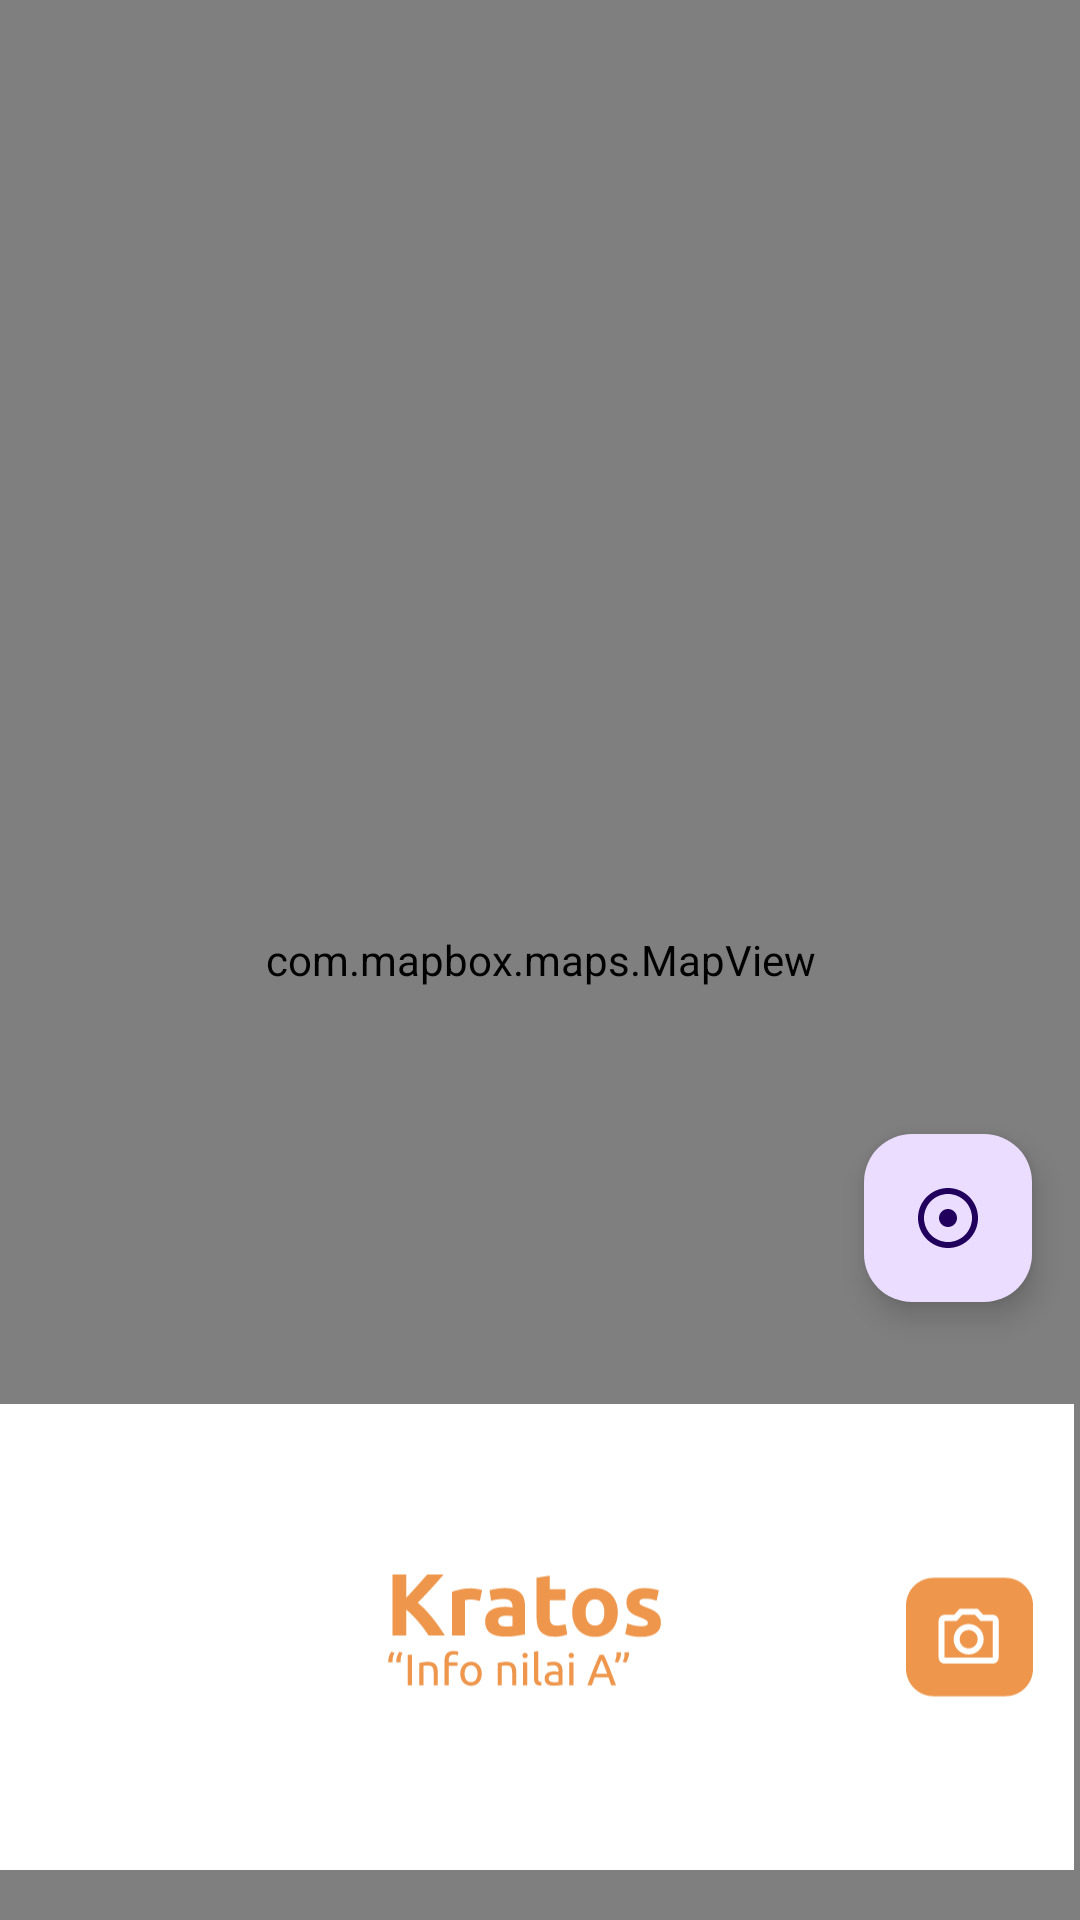

Named icons in this screenshot (1080*1920) and their bounding boxes, (x1, y1, x2, y2):
adjust: (864, 1134, 1032, 1302)
